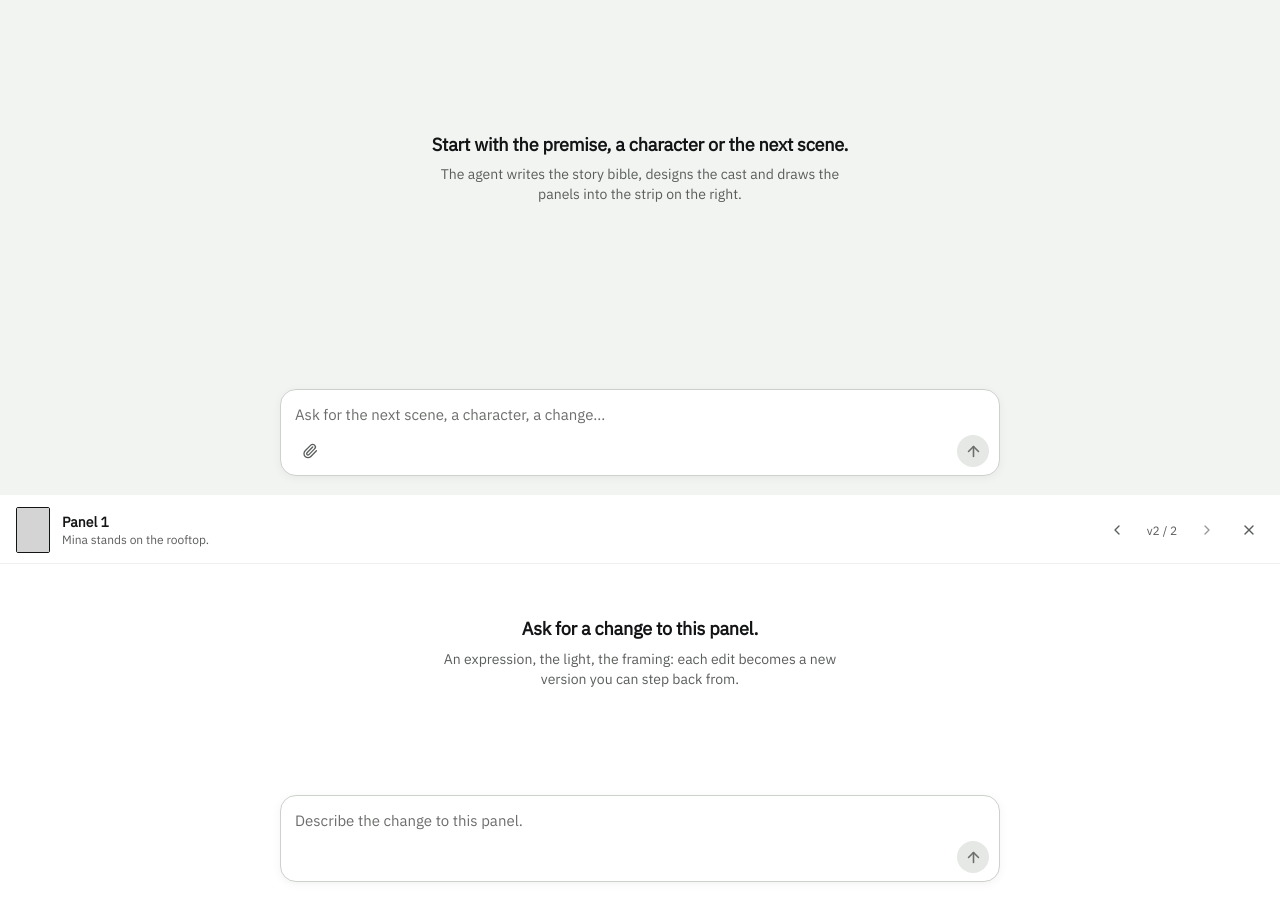
Test: VersionSwitcher › numbers ready versions only, and reverts to the previous ready one
Click the button with test id "version-prev": (1117, 530) [1102,516,1132,546]
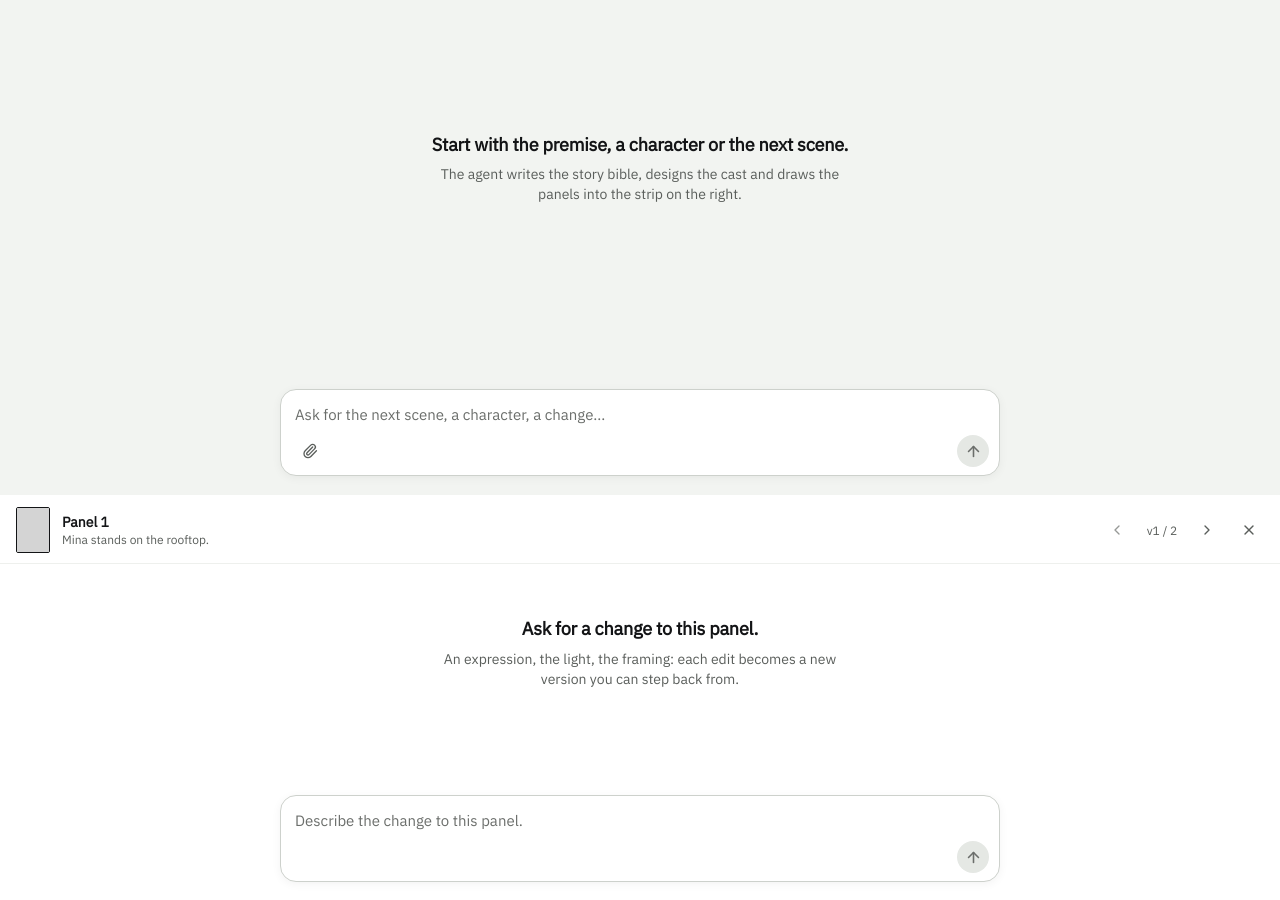
Now the text with test id "panel-version-label" reads "v1 / 2", box [1147,523,1177,538]
